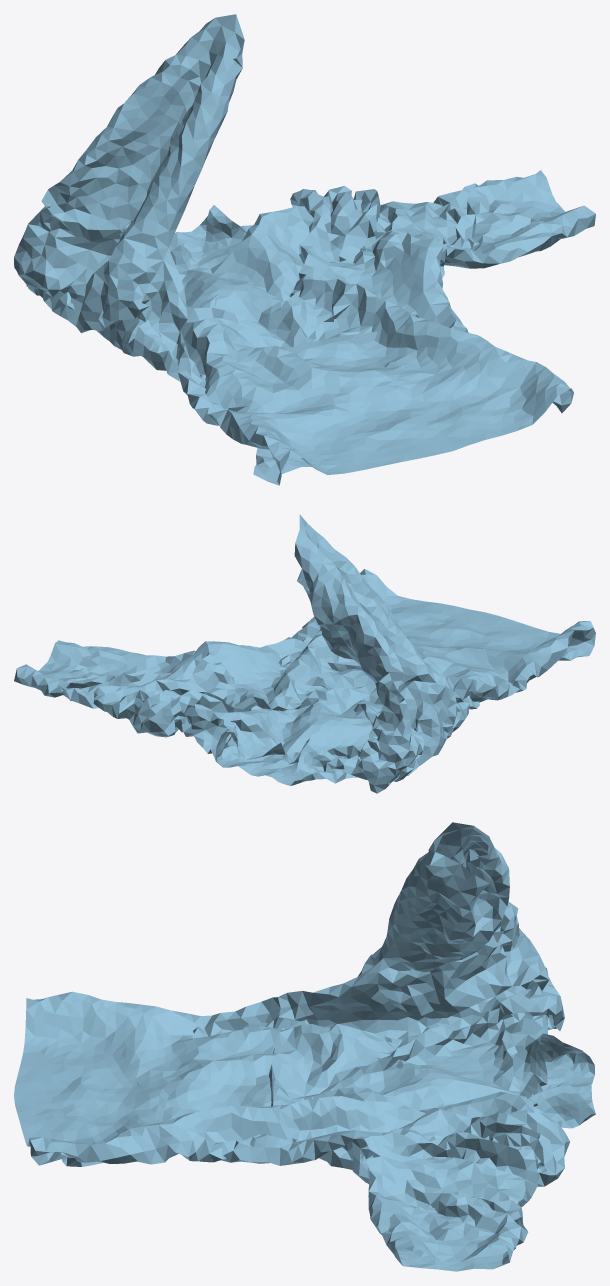
Rendered from frame_14.glb.
The picture shows the model from 3 angles, top to bottom: view 1: azimuth 30°, elevation 25°; view 2: azimuth 150°, elevation 25°; view 3: azimuth 270°, elevation 25°; orthographic projection. The views are drawn at different scales.
Parts seen in each view (by area): view 1: frame_14.obj; view 2: frame_14.obj; view 3: frame_14.obj.
Boxes of the visible parts, x1,y1,x2,y2 form: frame_14.obj: [14, 14, 595, 485]; frame_14.obj: [14, 514, 595, 793]; frame_14.obj: [14, 822, 595, 1271].
Size of the model in its own units: 1.4 by 0.7402 by 1.35.
